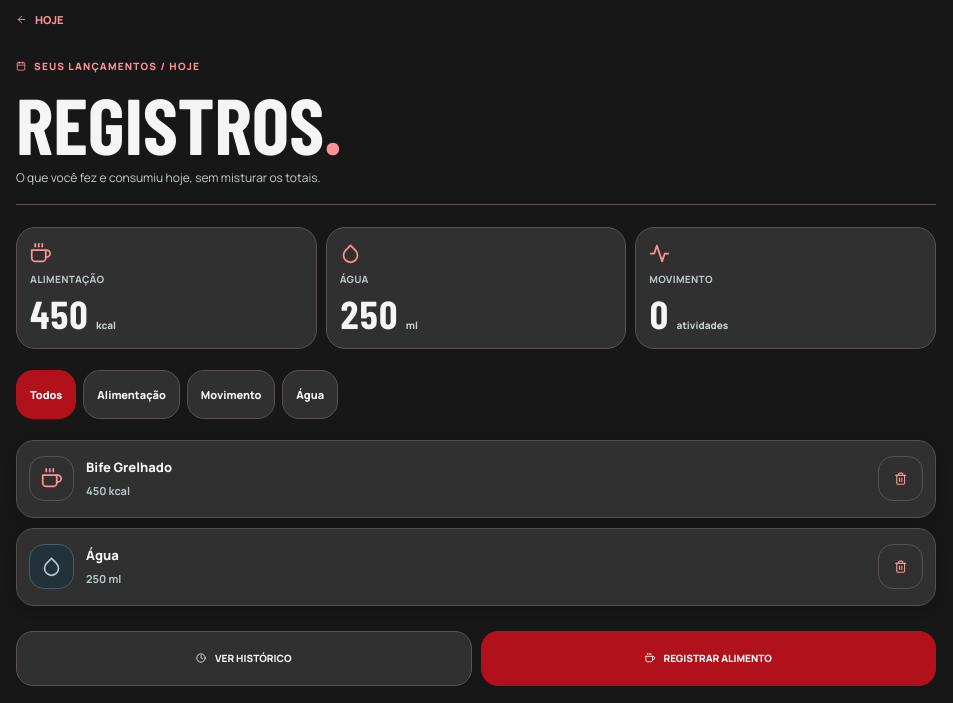
Test case: filtros mostram tipo de registro sem apagar dados
Expected: the text "Bife Grelhado" is shown, [86,458,172,476]
Click the button "Água": x=310, y=394 [282,370,338,419]
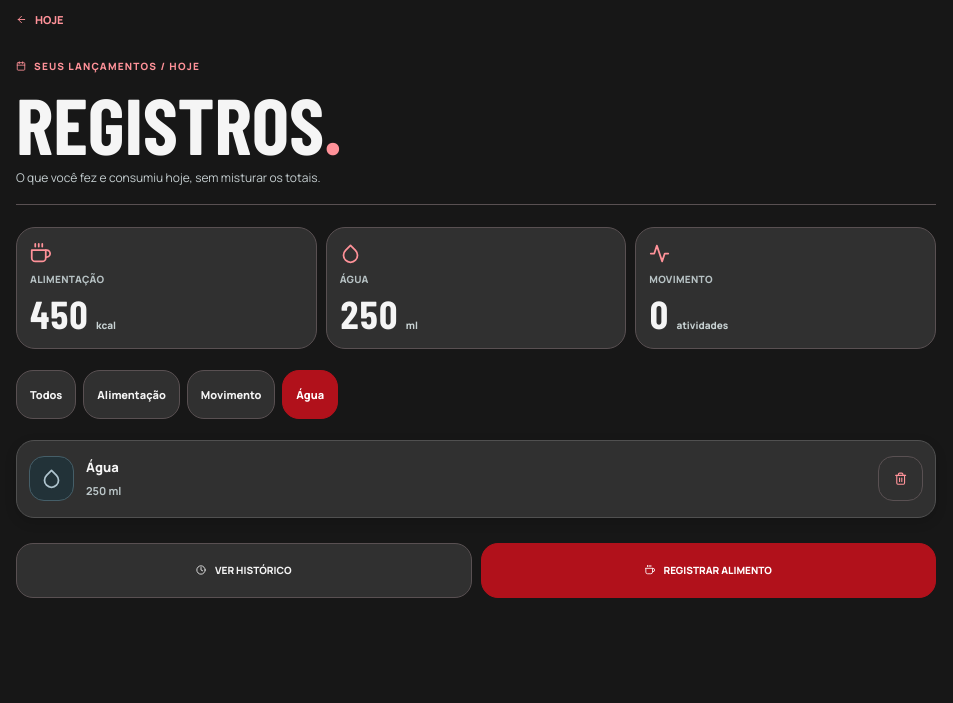
Expected: the text "250 ml" is shown, [86,483,121,498]
Expected: the text "Bife Grelhado" is gone
Click the button "Todos": x=46, y=394 [16,370,76,419]
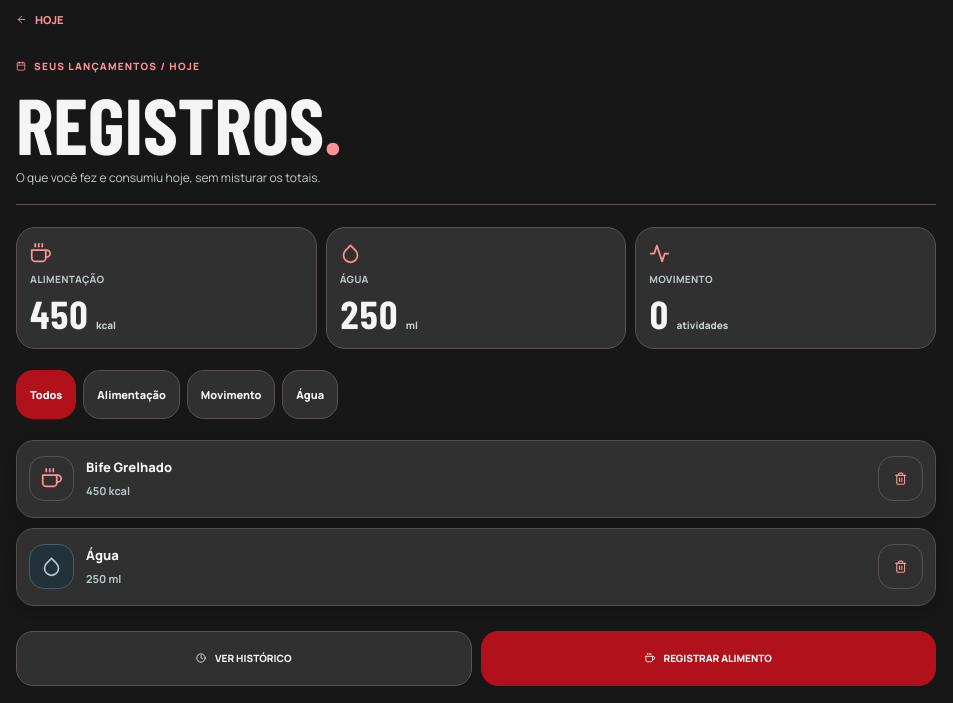
Expected: the text "Bife Grelhado" is shown, [86,458,172,476]
